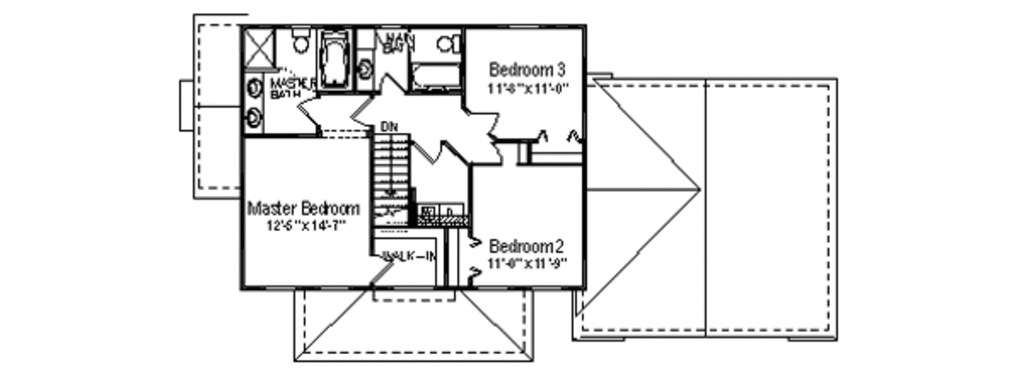door: (292, 93, 321, 130), (347, 97, 376, 130), (410, 135, 440, 164), (472, 146, 506, 171), (469, 108, 501, 133), (368, 250, 393, 282), (377, 71, 405, 93)
large_sink: (433, 32, 461, 58), (289, 25, 310, 57)
small_sink: (245, 70, 267, 135), (352, 47, 372, 90)
stairs: (372, 119, 416, 231)
tub: (314, 29, 350, 91), (408, 63, 462, 92)
windows: (260, 282, 355, 297), (474, 282, 561, 296)
